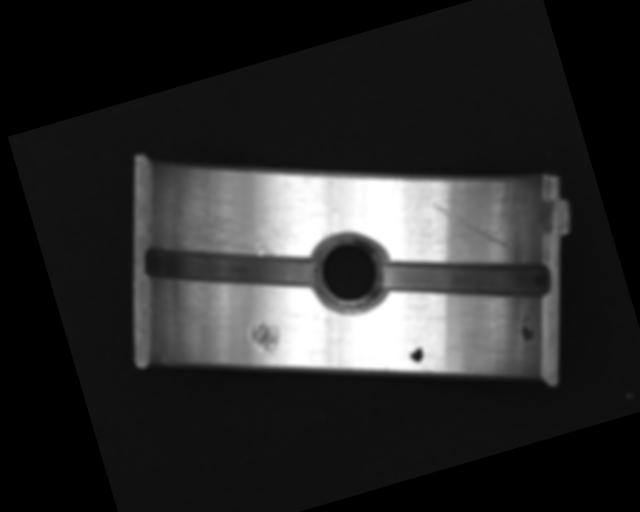blot: (516, 313, 538, 344), (406, 339, 427, 365)
bruise: (247, 317, 287, 362)
gap: (141, 204, 320, 329), (377, 220, 556, 337)
hole: (305, 226, 395, 321)
nick: (431, 183, 510, 265)
scratch: (149, 165, 302, 290)
